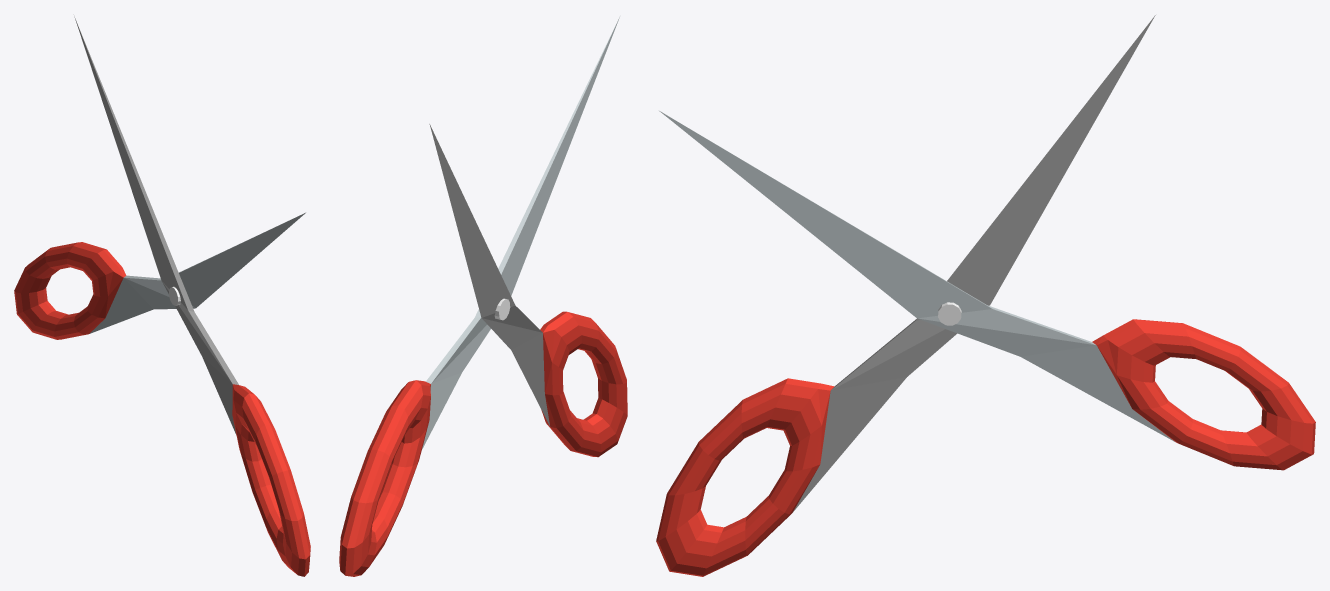
Rendered from scissors.glb.
3 views of the same model, side by side, from view 1: azimuth 30°, elevation 25°; view 2: azimuth 150°, elevation 25°; view 3: azimuth 270°, elevation 25° (orthographic). The views are drawn at different scales.
Parts seen in each view (by area): view 1: group2140332494, group105737810; view 2: group105737810, group2140332494; view 3: group105737810, group2140332494.
Part boxes in pixels (x1=…): group2140332494: x1=74, y1=16, x2=310, y2=576; group105737810: x1=14, y1=212, x2=305, y2=339; group105737810: x1=339, y1=17, x2=619, y2=576; group2140332494: x1=429, y1=124, x2=627, y2=457; group105737810: x1=659, y1=111, x2=1315, y2=470; group2140332494: x1=656, y1=15, x2=1155, y2=576.
Bounding box in the file's own units: 0.4189 × 3.47 × 3.85.
